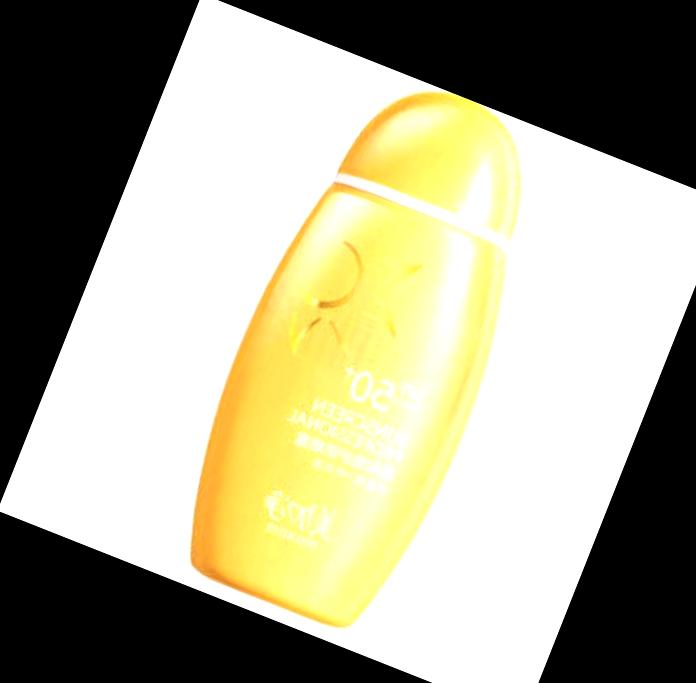cosmetic: (155, 55, 581, 649)
